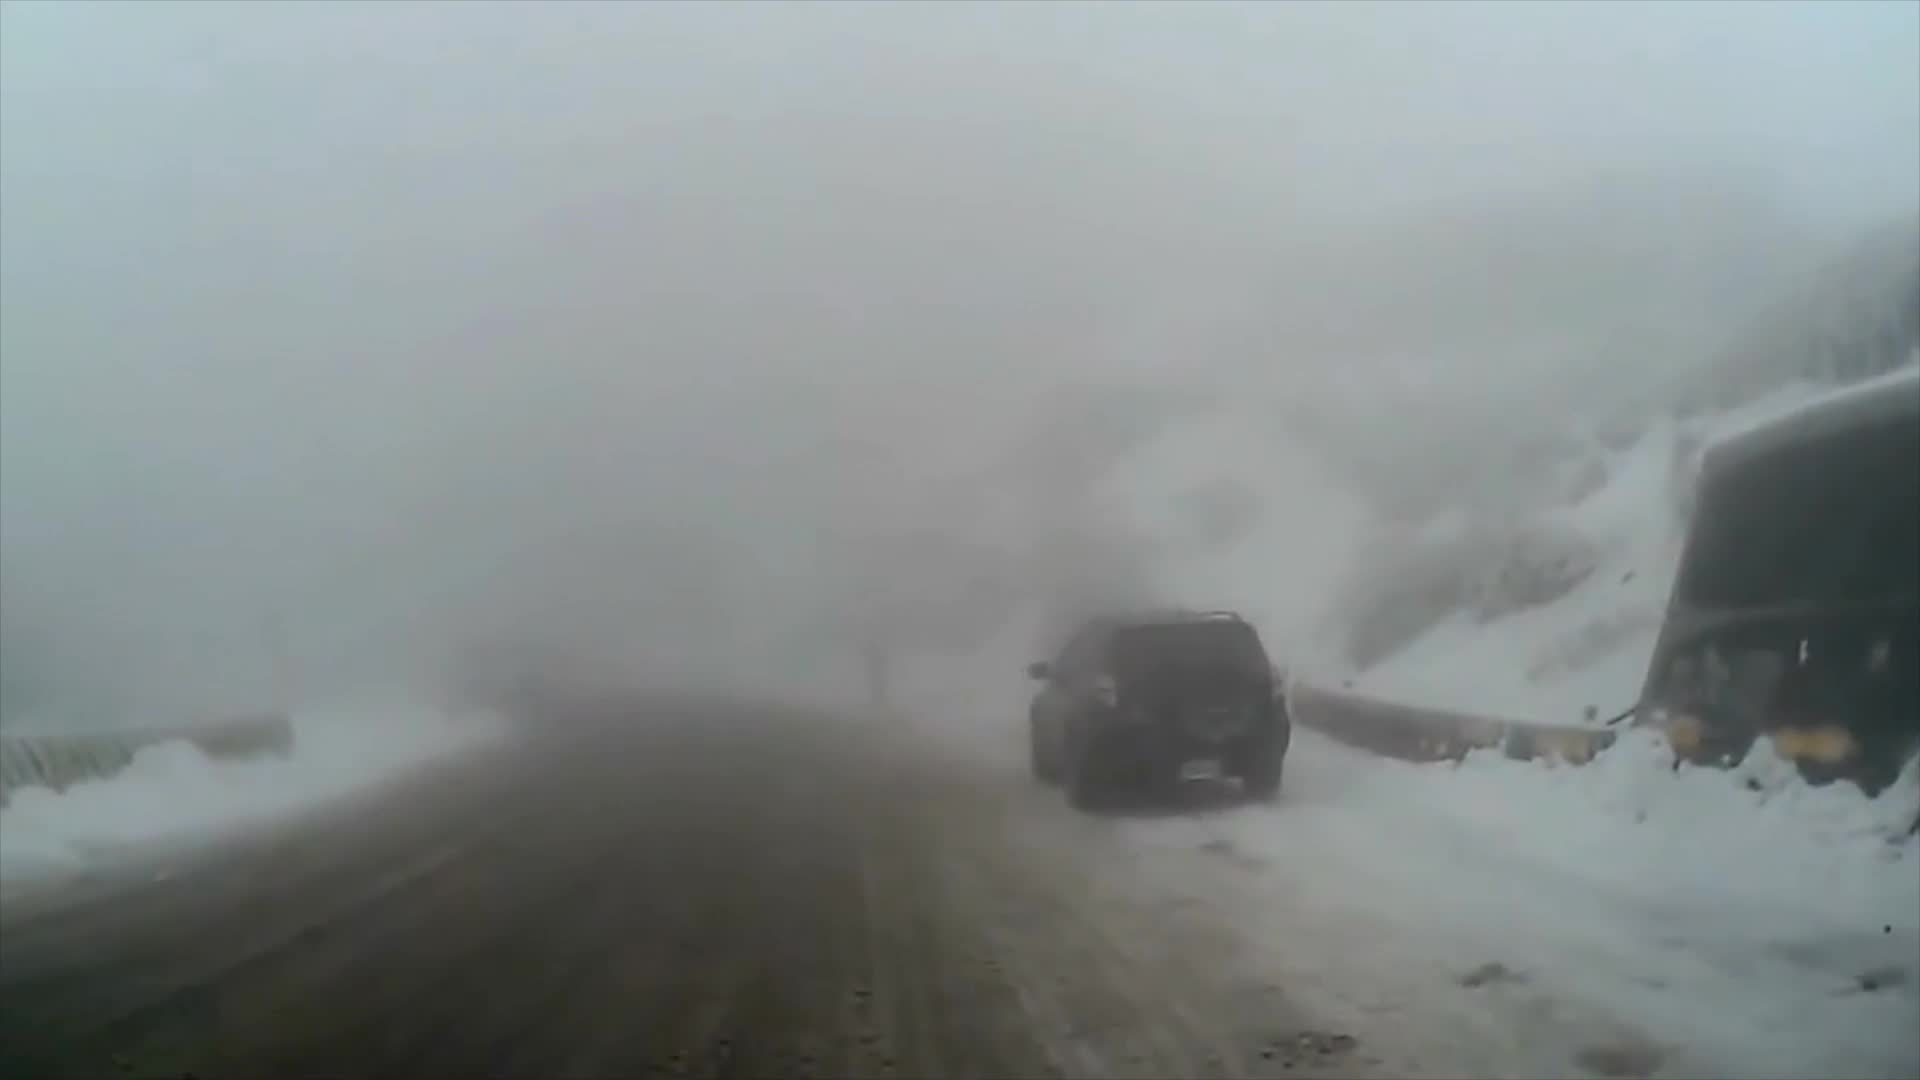vehicle: (1023, 607, 1291, 816)
